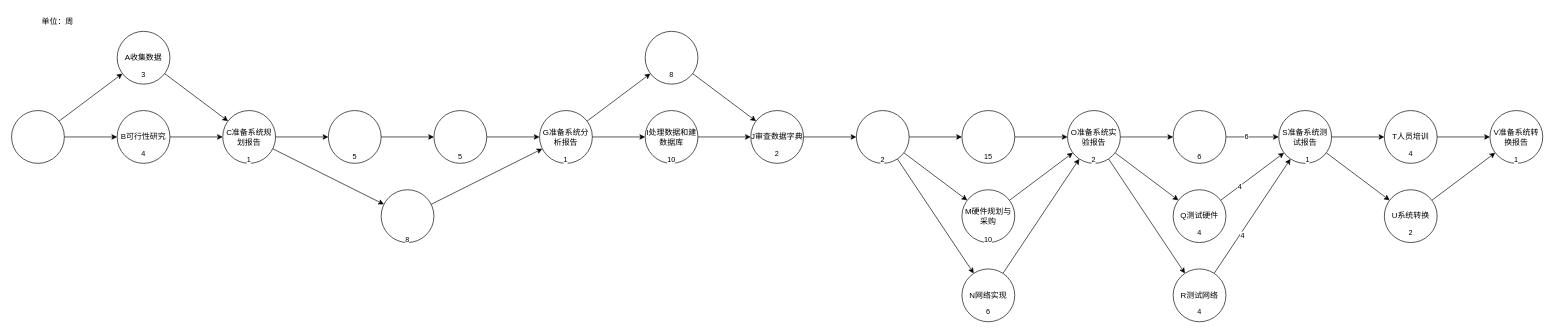
Some shapes in this 1554 by 333 pixel diagram are drawn without their labels. Each missing label, with the box of its shape:
D与业务人员沟通: (328, 110, 381, 163)
E研究现有系统: (380, 189, 434, 243)
F明确用户需求: (433, 110, 487, 163)
H分析数据输入和输出: (644, 31, 698, 84)
K准备系统设计报告: (856, 110, 909, 163)
L开发软件: (961, 110, 1015, 163)
P测试软件: (1172, 110, 1226, 163)
开始: (11, 110, 64, 163)
